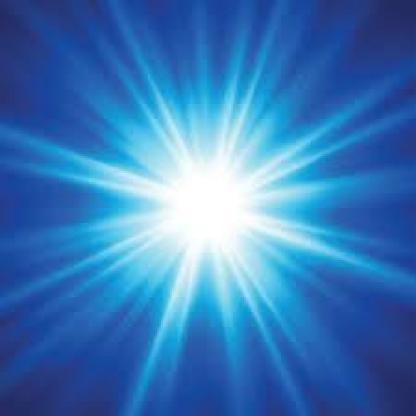other: (105, 109, 321, 306)
